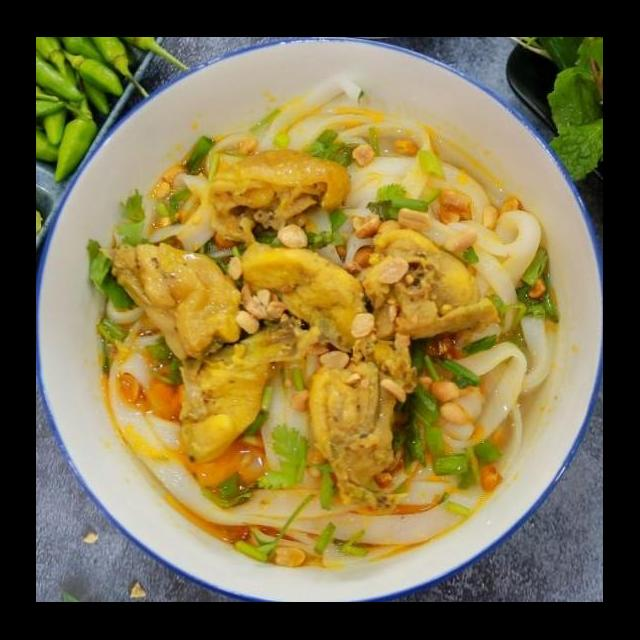mi: (228, 71, 546, 272), (410, 206, 560, 487), (156, 462, 484, 570), (96, 298, 202, 488), (130, 124, 260, 258), (250, 344, 334, 498)
thit ga: (174, 313, 324, 467), (304, 326, 422, 518), (98, 237, 246, 371), (356, 224, 506, 346), (232, 240, 372, 362), (200, 146, 356, 254)
